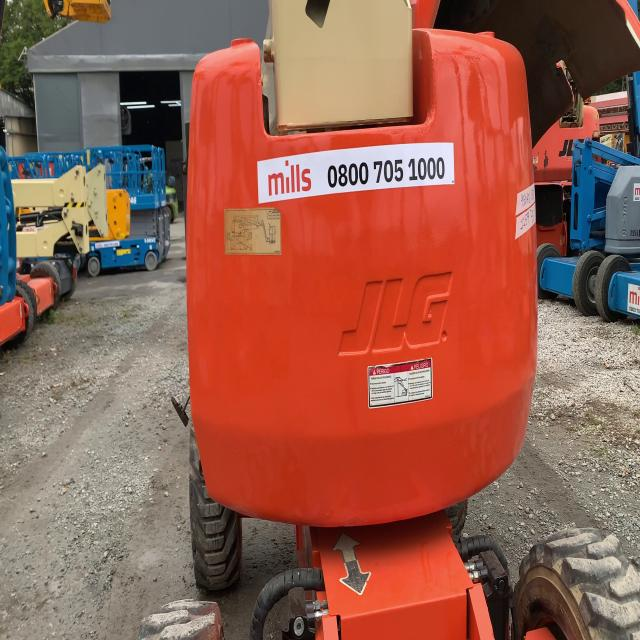Adesivo Longo: (256, 141, 456, 206)
